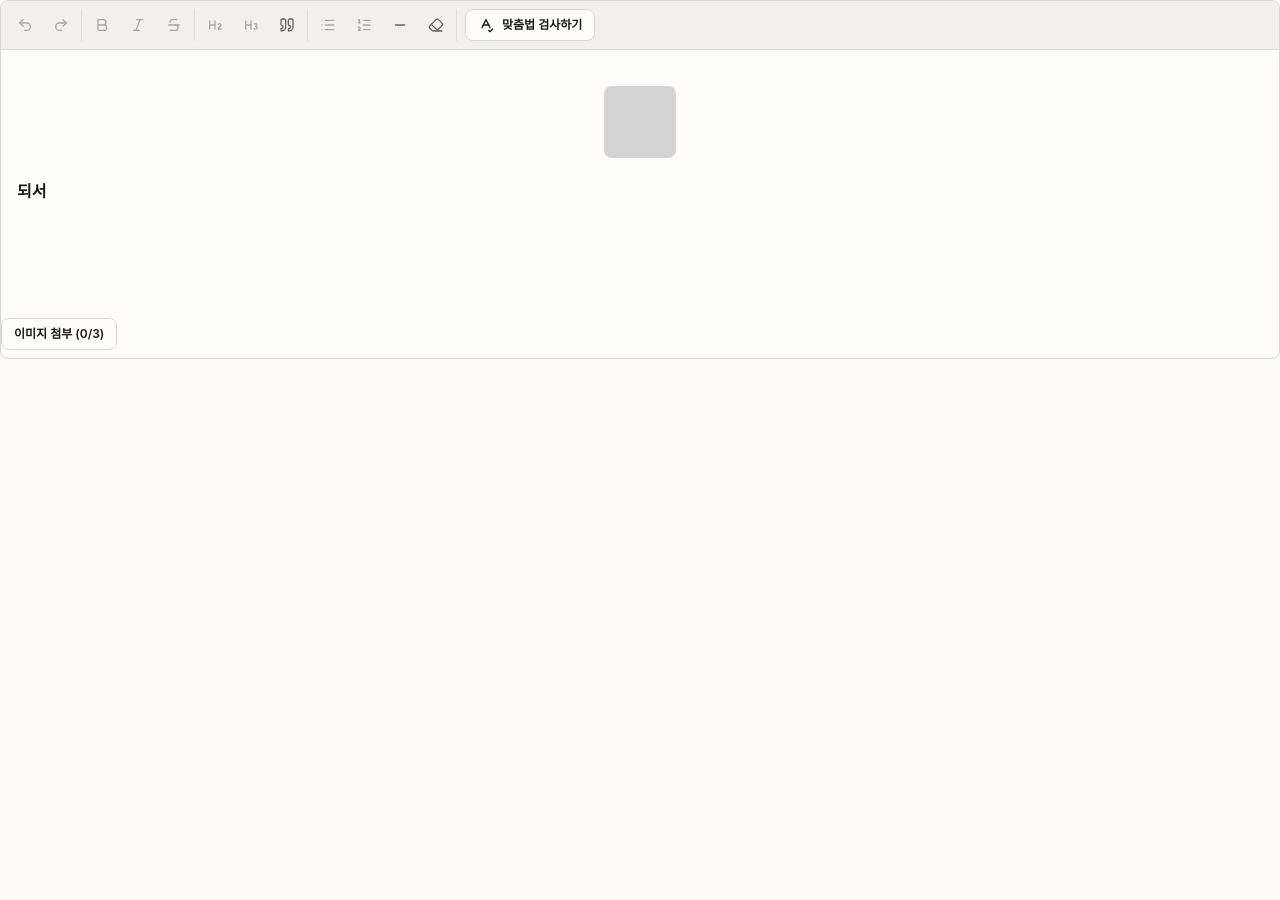
Scenario: real editor Enter › applies a spelling suggestion while preserving attached images and formatting
Click the button "맞춤법 검사하기" at (530, 25), box [465,9,595,41]
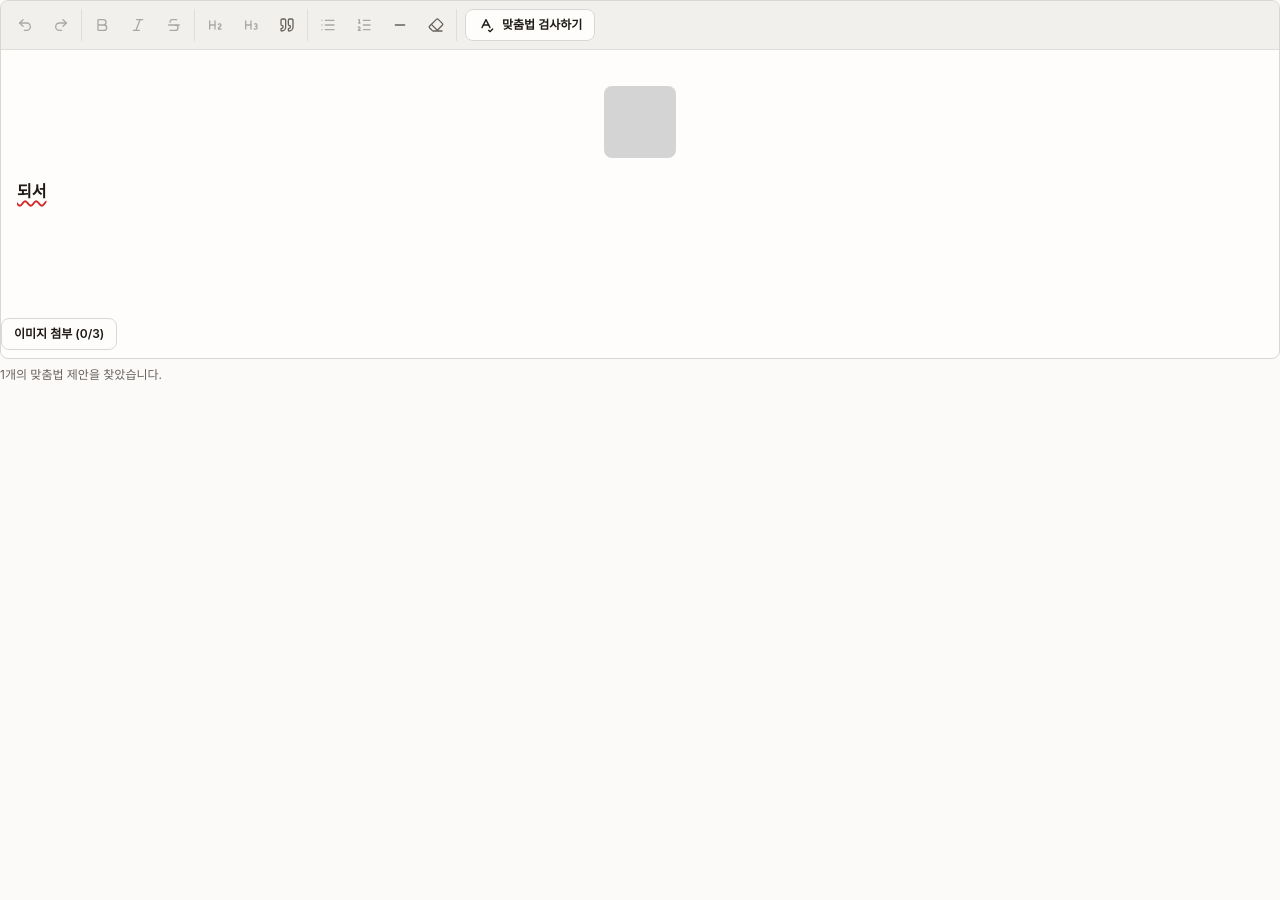
Click the button with aria-label "되서: 돼서으로 변경 제안" at (32, 191), box [17,181,46,201]
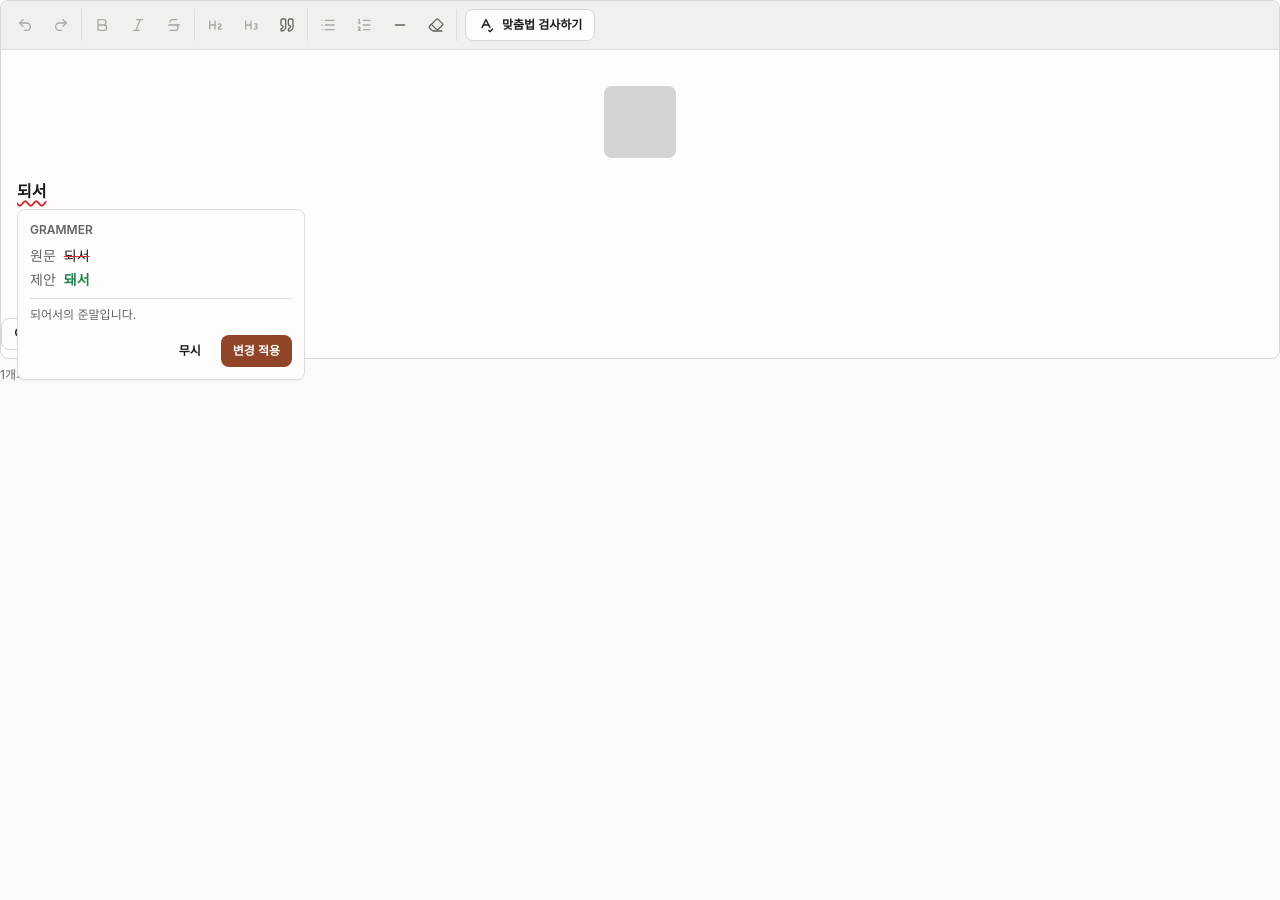
Click the button "변경 적용" at (256, 351), box [221,335,292,367]
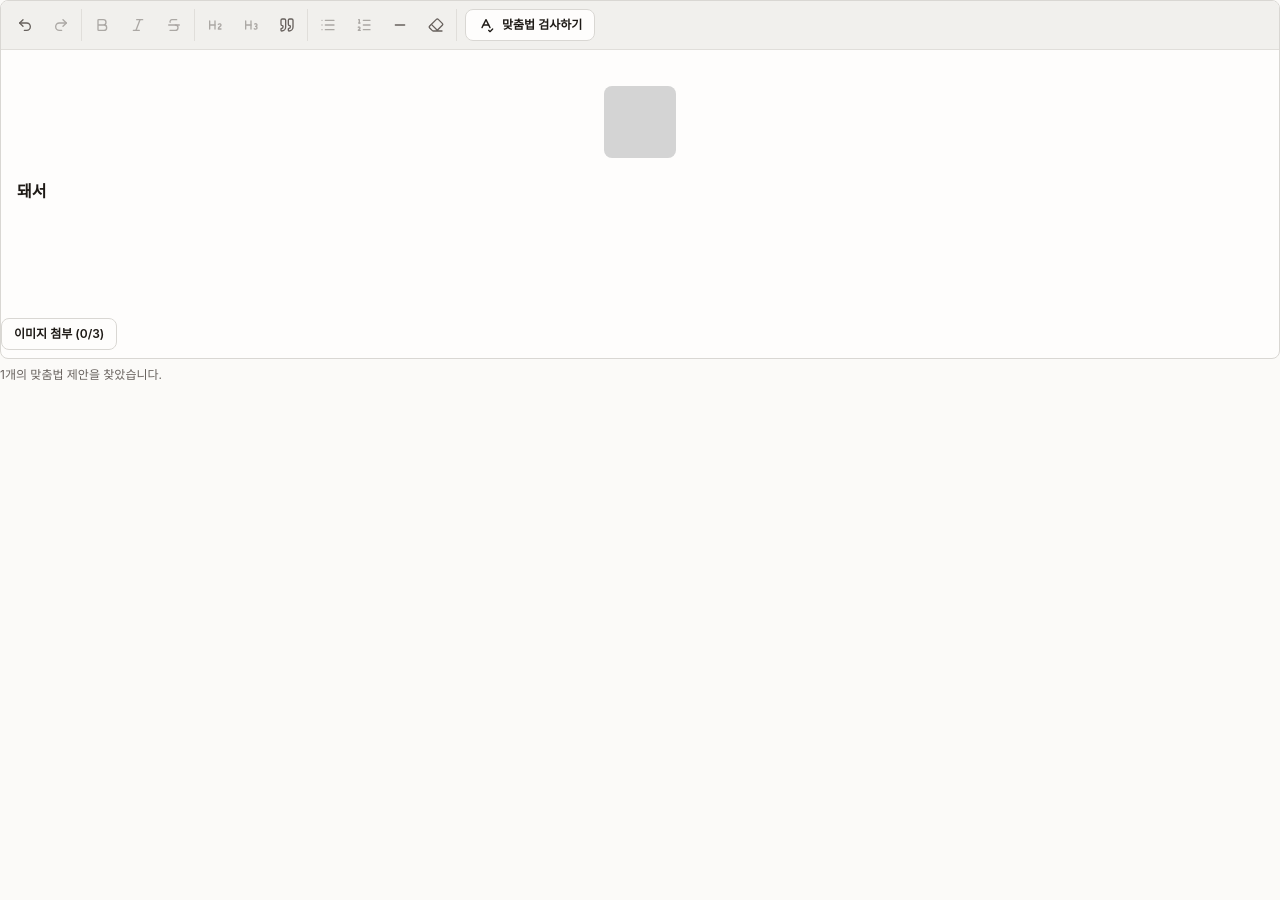
Expected: the text box labelled "돼서" is shown, [17,181,46,201]
Expected: the button with class "spellcheck-error" is gone
